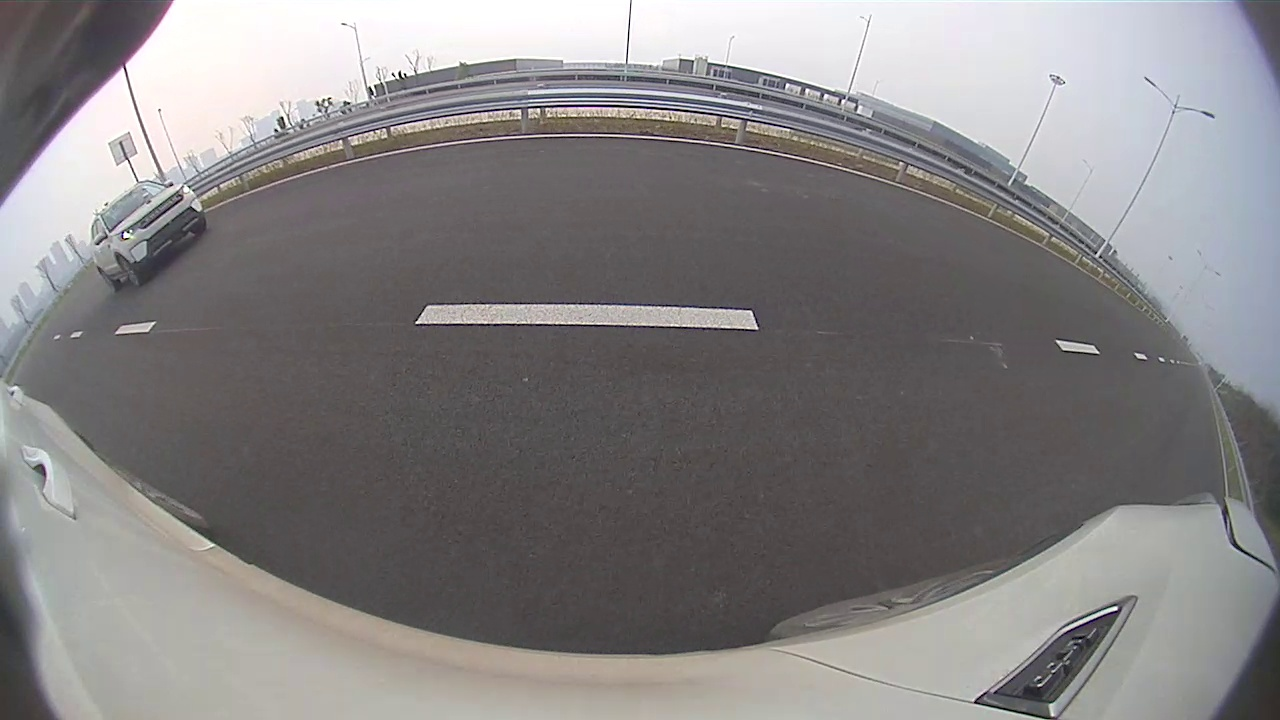car: (90, 180, 206, 292)
front: (114, 253, 144, 291)
